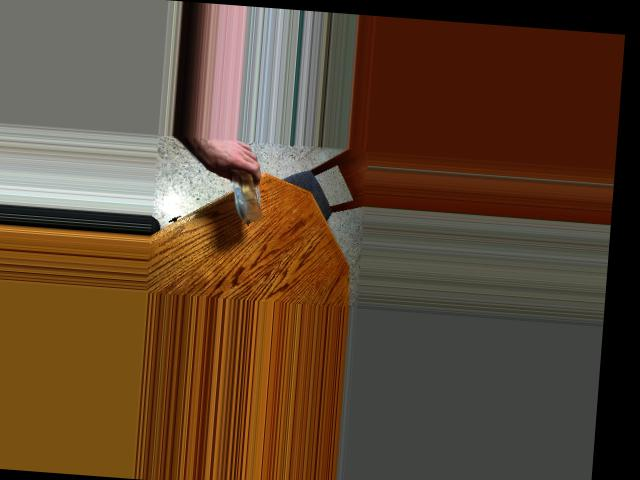cheese: (219, 169, 266, 218)
